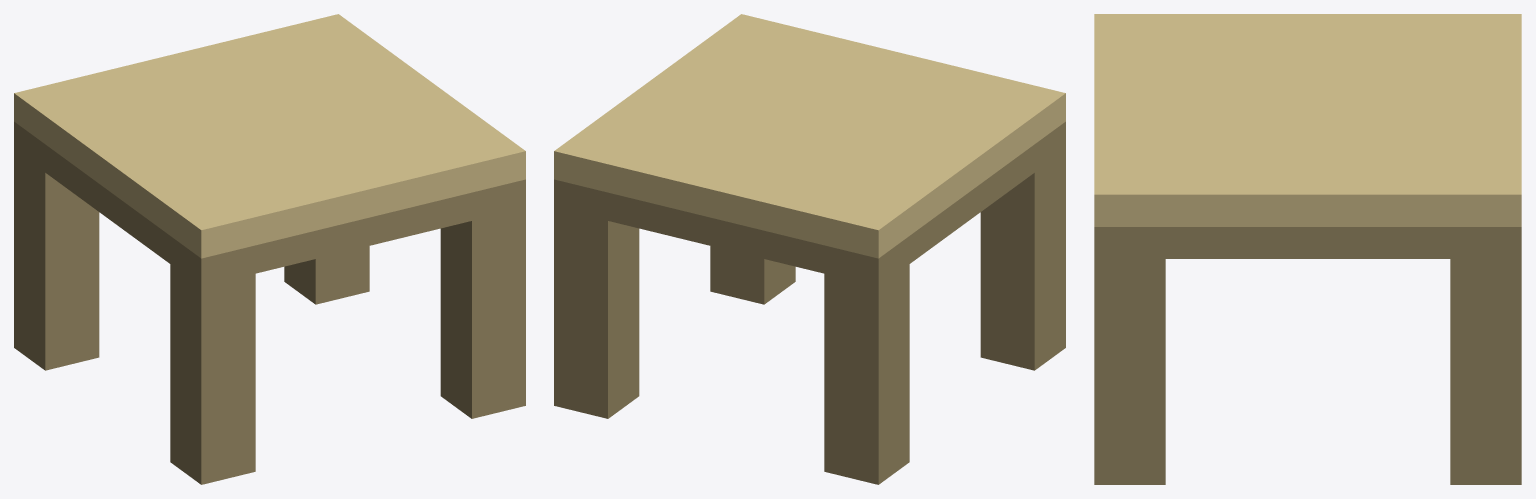
Rendered from candil_aceite_mesa_01.glb.
The picture shows the model from 3 angles, left to right: view 1: azimuth 30°, elevation 25°; view 2: azimuth 150°, elevation 25°; view 3: azimuth 270°, elevation 25°; orthographic projection. The views are drawn at different scales.
Parts seen in each view (by area): view 1: candil_aceite_mesa; view 2: candil_aceite_mesa; view 3: candil_aceite_mesa.
Boxes of the visible parts, x1,y1,x2,y2 form: candil_aceite_mesa: (14, 14, 525, 484); candil_aceite_mesa: (554, 14, 1065, 484); candil_aceite_mesa: (1094, 14, 1521, 484).
Size of the model in its own units: 1 by 0.75 by 1.
